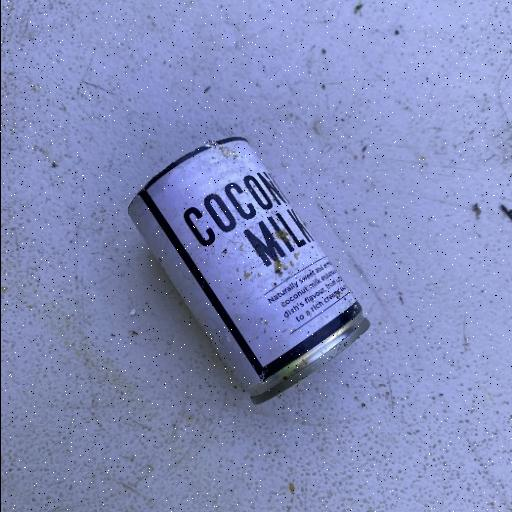Metal: (125, 134, 371, 406)
